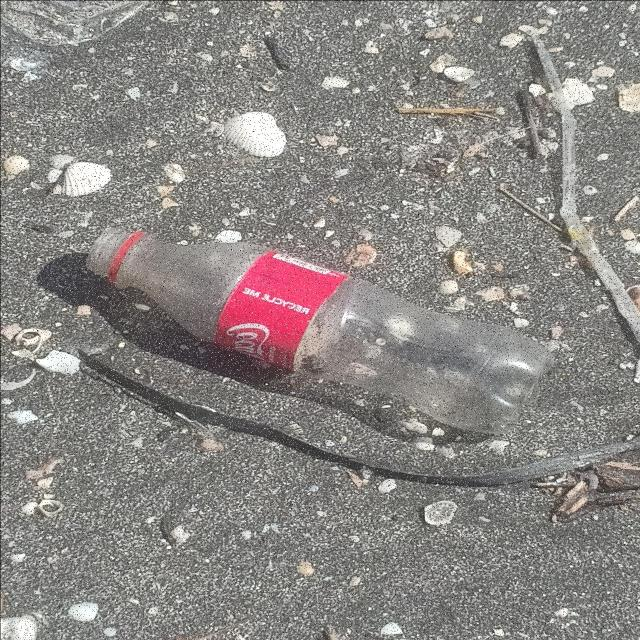plastic_waste: (85, 227, 553, 436)
